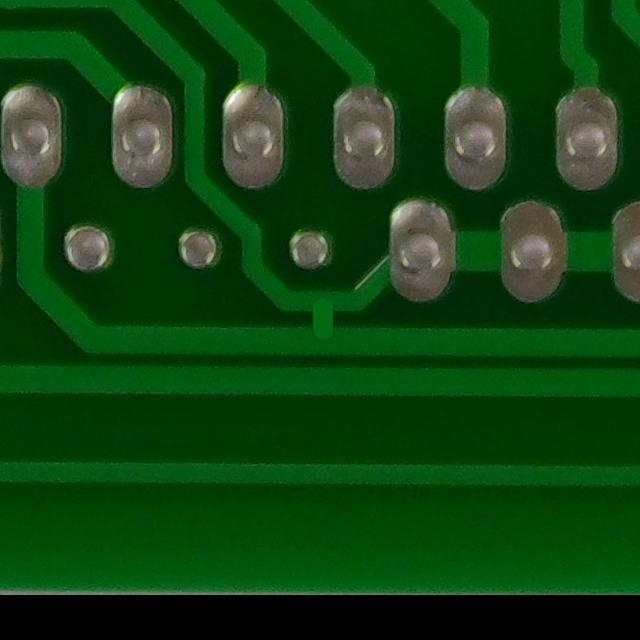short: (285, 281, 356, 360)
